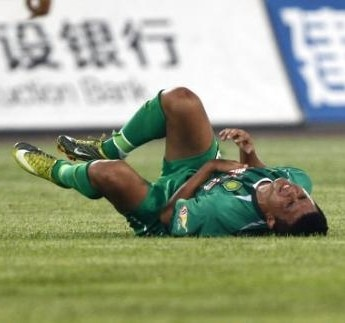falling: (11, 78, 330, 240)
